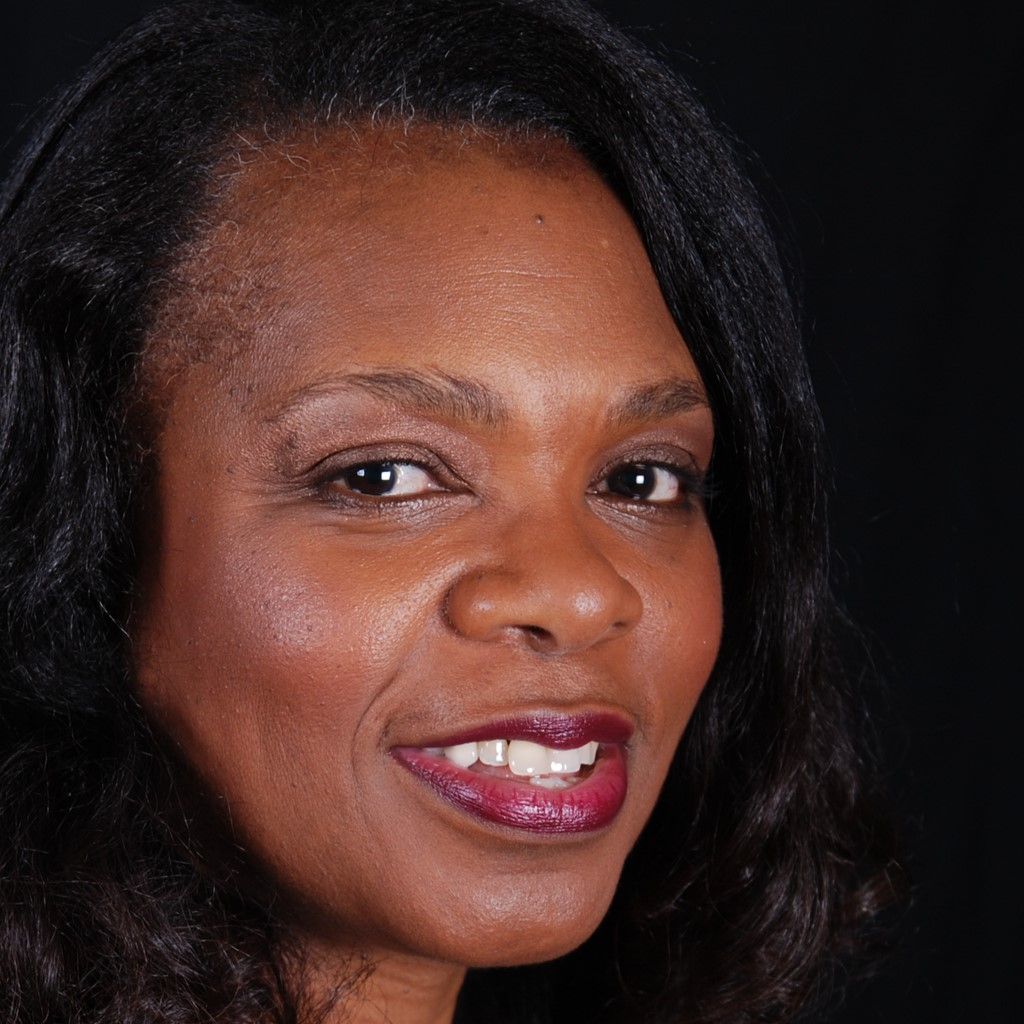sin_mascara: (90, 46, 733, 1013)
